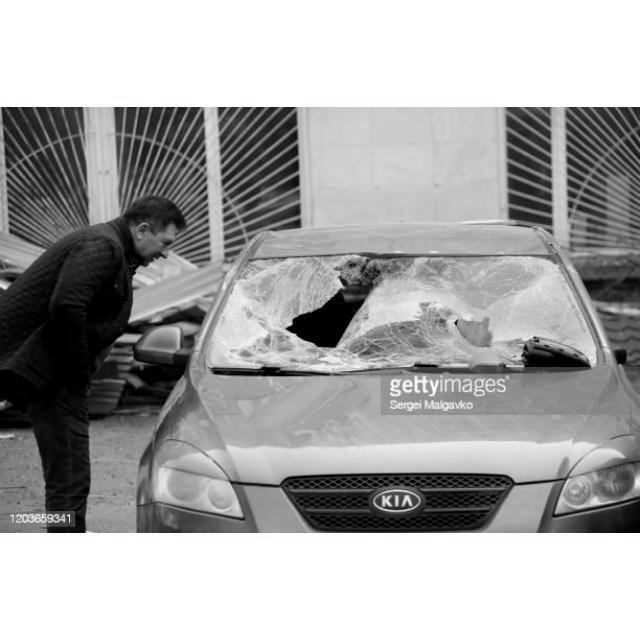Front-windscreen-damage: (204, 239, 611, 401)
